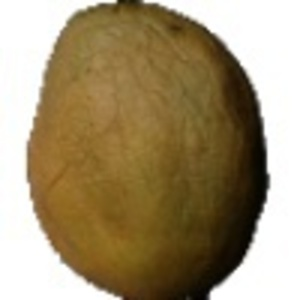mamão: (21, 1, 277, 295)
